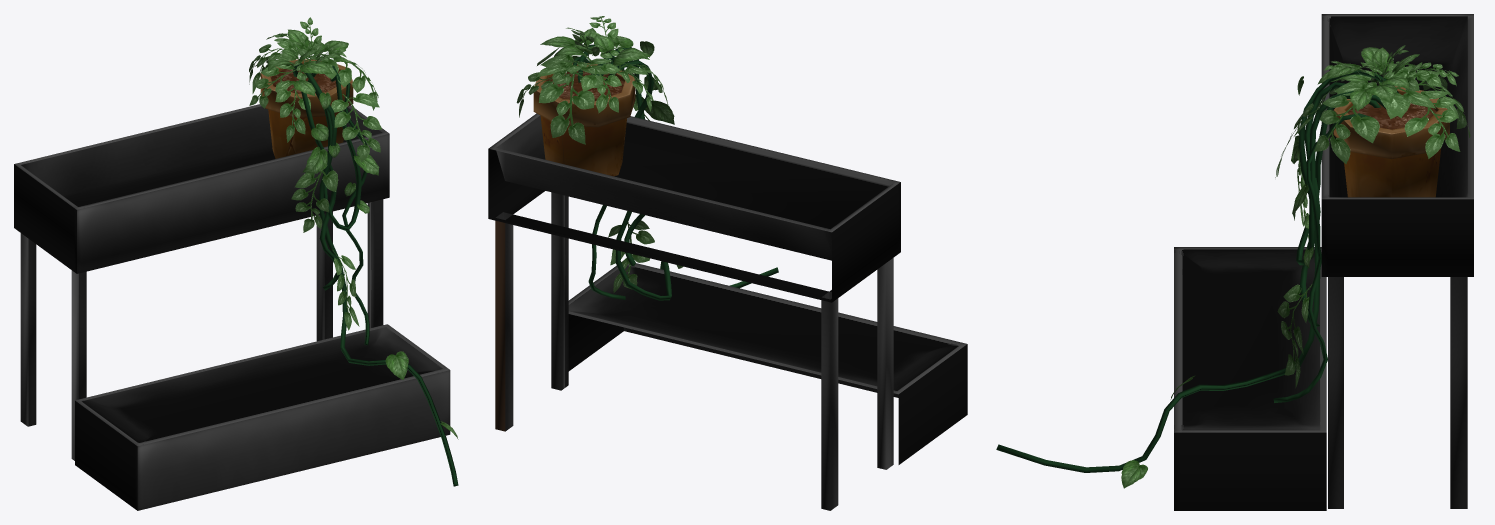
Rendered from box01_modern.FBX.
3 views of the same model, side by side, from view 1: azimuth 30°, elevation 25°; view 2: azimuth 150°, elevation 25°; view 3: azimuth 270°, elevation 25° (orthographic). The views are drawn at different scales.
Visible parts, largest first — view 1: box01_modern001; view 2: box01_modern001; view 3: box01_modern001.
Boxes of the visible parts, bbox=[...] form: box01_modern001: bbox=[14, 17, 458, 510]; box01_modern001: bbox=[488, 16, 967, 510]; box01_modern001: bbox=[996, 14, 1473, 510].
Bounding box in the file's own units: 1.27 × 1.36 × 1.37.
